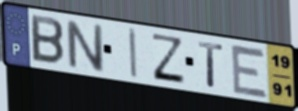B: (30, 12, 66, 67)
E: (228, 41, 270, 100)
I: (126, 26, 139, 81)
N: (63, 18, 107, 75)
T: (196, 39, 225, 90)
Z: (151, 32, 187, 86)
